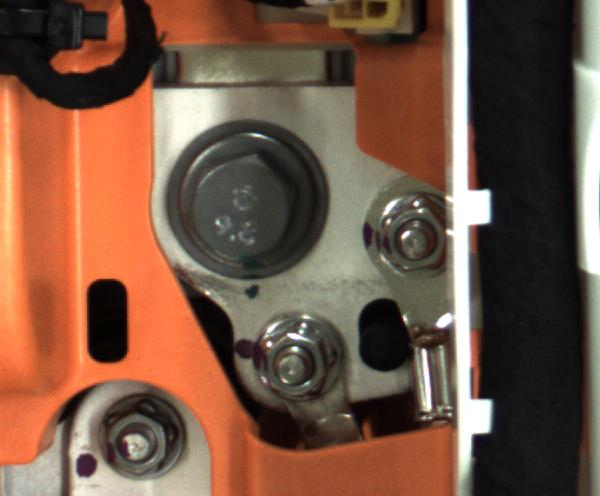nut_b: (174, 147, 315, 273)
screw_s: (94, 396, 192, 484), (245, 313, 333, 408), (372, 200, 446, 277)
